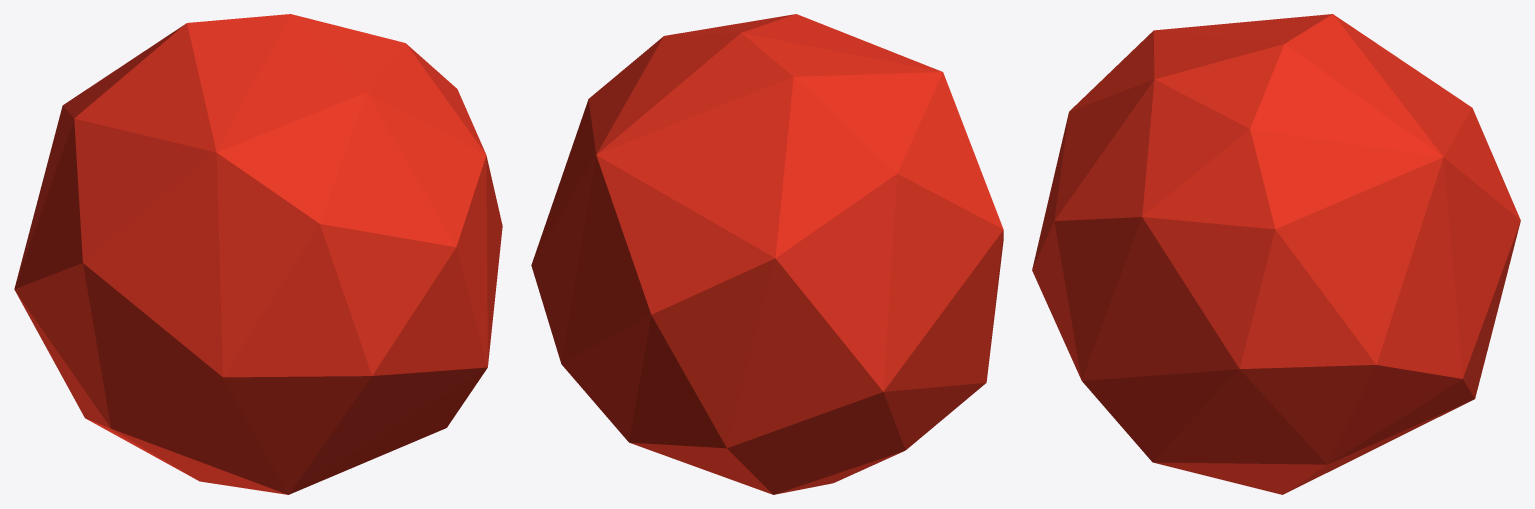
File: apple.glb
The picture shows the model from 3 angles, left to right: view 1: azimuth 30°, elevation 25°; view 2: azimuth 150°, elevation 25°; view 3: azimuth 270°, elevation 25°; orthographic projection. The views are drawn at different scales.
Visible parts, largest first — view 1: Sphere; view 2: Sphere; view 3: Sphere.
Part boxes in pixels (x1,y1,x2,y2): Sphere: (14, 14, 502, 494); Sphere: (531, 14, 1003, 494); Sphere: (1032, 14, 1520, 494).
Bounding box in the file's own units: 2.02 × 2.01 × 2.05.
